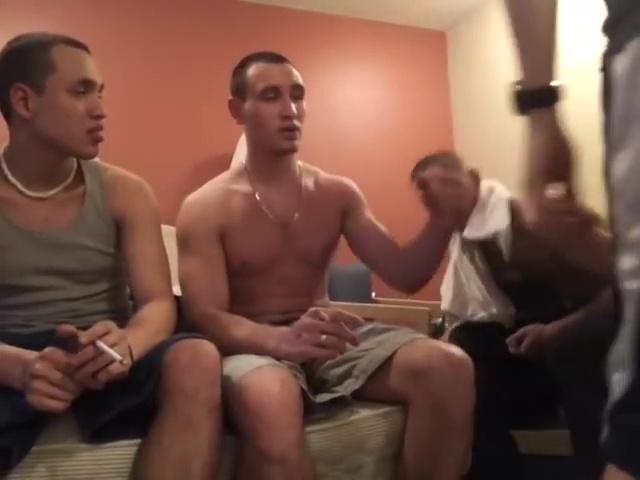cigarette: (90, 338, 130, 370), (312, 307, 334, 323)
